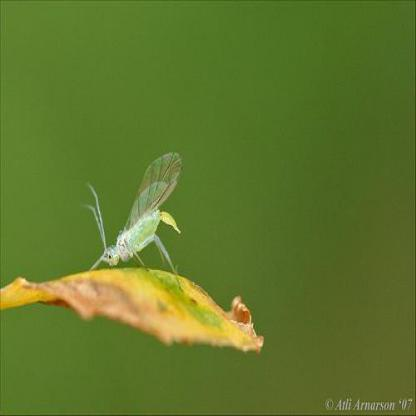aphid: (82, 146, 190, 298)
